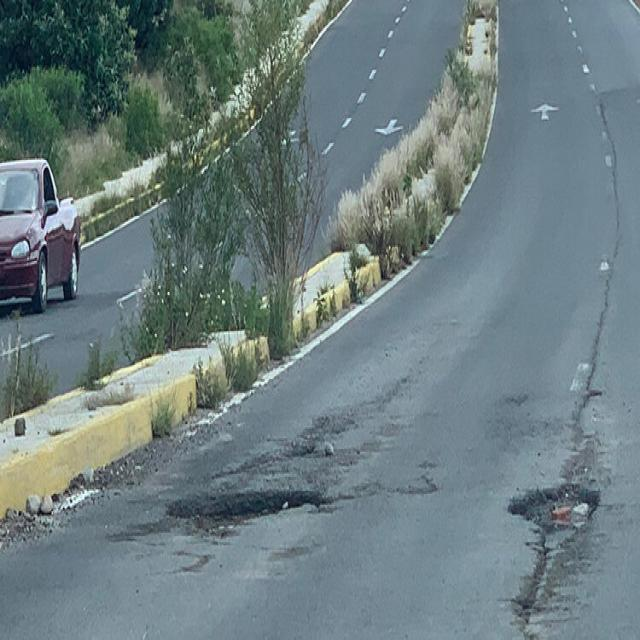Pothole: (152, 382, 390, 603), (466, 412, 640, 607)
